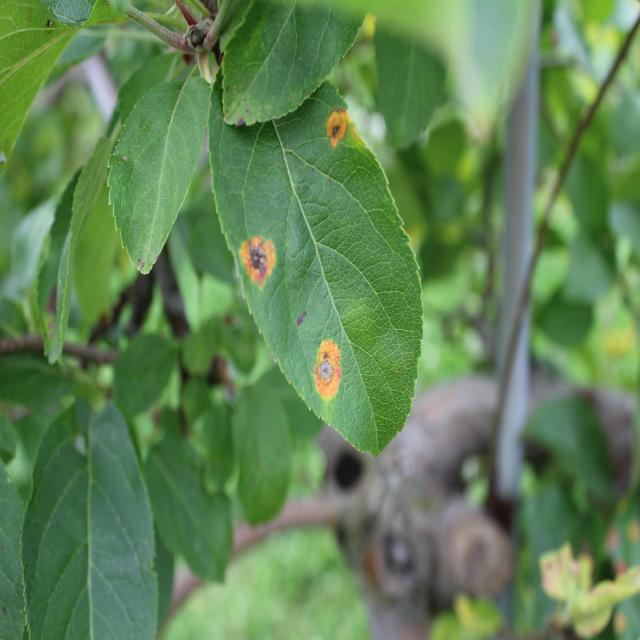Rust: (226, 225, 282, 297), (310, 329, 347, 413), (316, 96, 363, 153)
